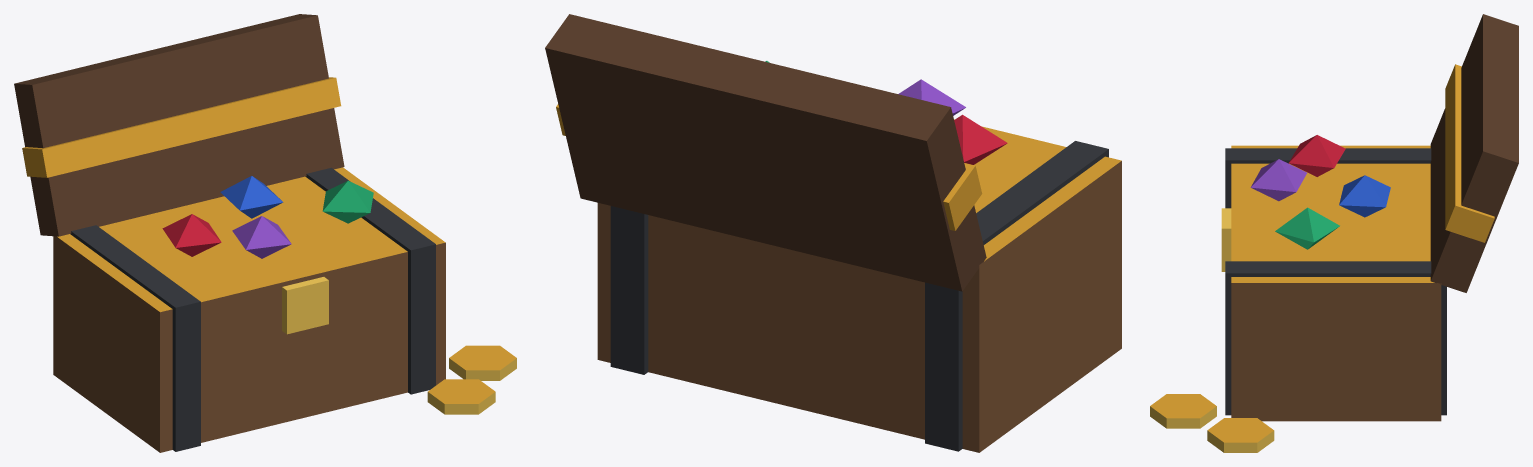
Rendered from prop_gemchest.glb.
3 renders of one model, left to right at view 1: azimuth 30°, elevation 25°; view 2: azimuth 150°, elevation 25°; view 3: azimuth 270°, elevation 25°, orthographic. The views are drawn at different scales.
Parts seen in each view (by area): view 1: prop_gemchest; view 2: prop_gemchest; view 3: prop_gemchest.
Part boxes in pixels (x1,y1,x2,y2): prop_gemchest: (14,14,516,452); prop_gemchest: (545,14,1121,452); prop_gemchest: (1150,14,1518,452).
Size of the model in its own units: 0.4253 by 0.312 by 0.3862.
1 material, 1 textured.
